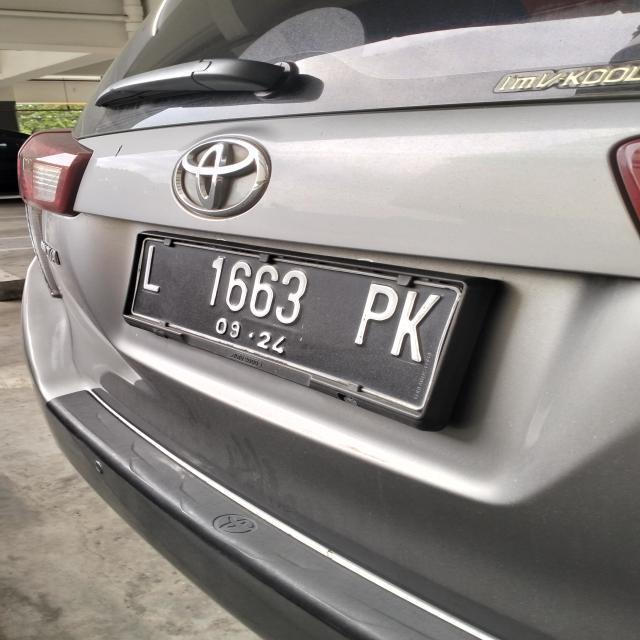1: (204, 255, 224, 310)
3: (276, 263, 314, 326)
6: (250, 260, 276, 324), (226, 256, 250, 318)
K: (390, 285, 443, 369)
L: (138, 242, 166, 296)
P: (350, 282, 396, 346)
